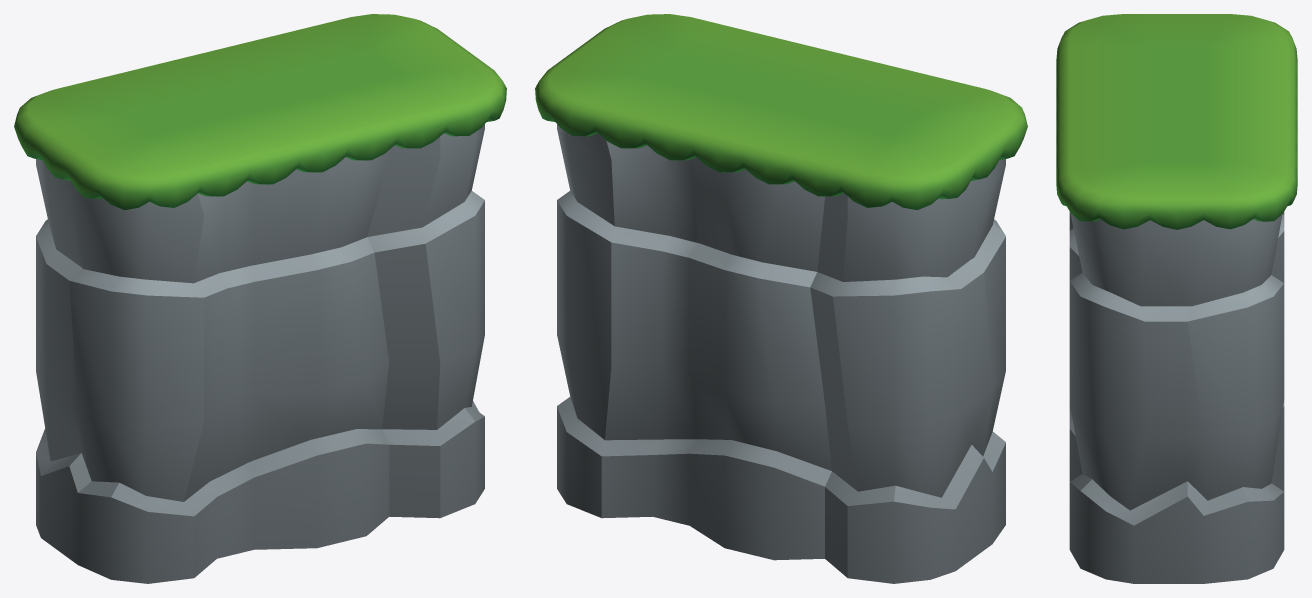
The model's file is Hill_8x4x8_Color1.gltf.
3 renders of one model, left to right at view 1: azimuth 30°, elevation 25°; view 2: azimuth 150°, elevation 25°; view 3: azimuth 270°, elevation 25°, orthographic. The views are drawn at different scales.
Parts seen in each view (by area): view 1: Hill_8x4x8_Color1; view 2: Hill_8x4x8_Color1; view 3: Hill_8x4x8_Color1.
Part boxes in pixels (x1=…): Hill_8x4x8_Color1: x1=14, y1=14, x2=506, y2=583; Hill_8x4x8_Color1: x1=535, y1=14, x2=1027, y2=583; Hill_8x4x8_Color1: x1=1056, y1=14, x2=1297, y2=583.
Size of the model in its own units: 8.5 by 8 by 4.5.
1 material, 1 textured.
